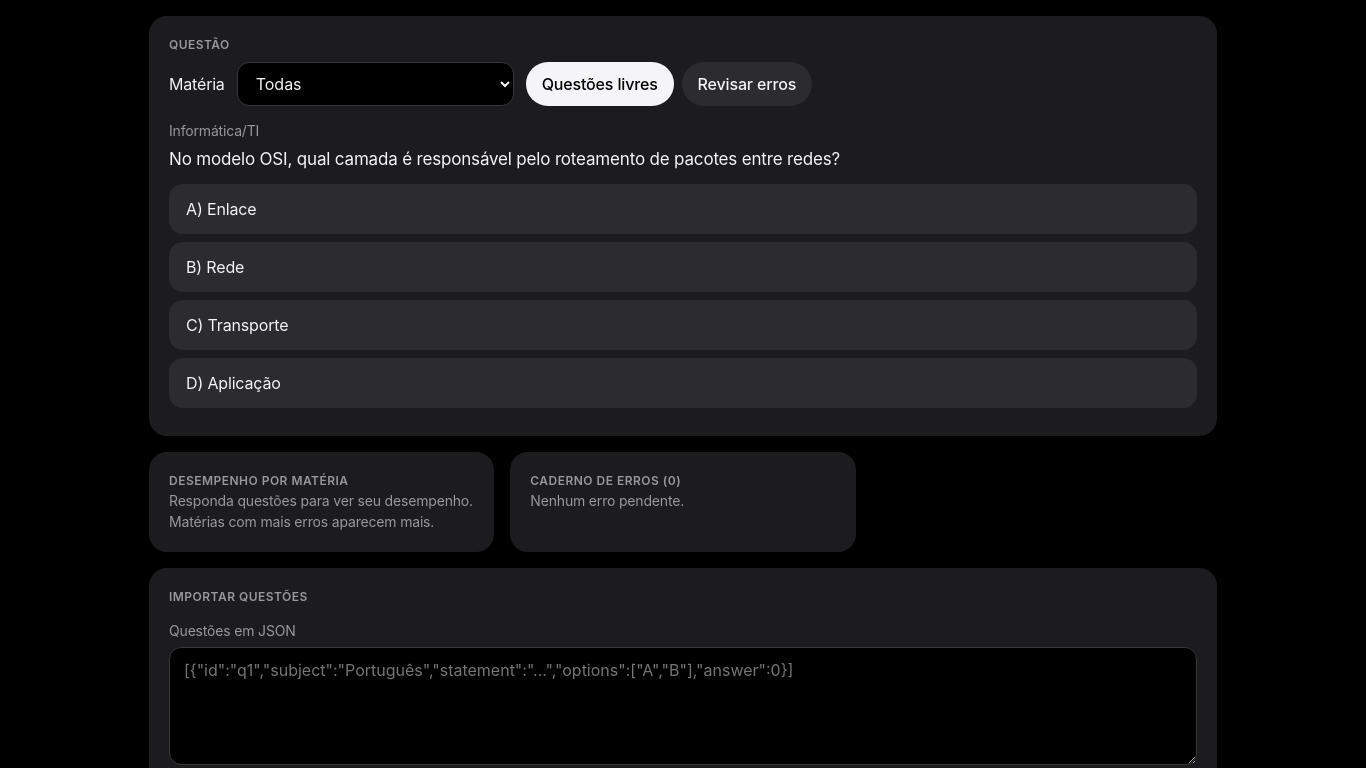
Test: responder errado mostra a resposta certa e coloca no caderno de erros
Click the button "A) Enlace".
click(232, 209)  # box [169,184,1197,234]
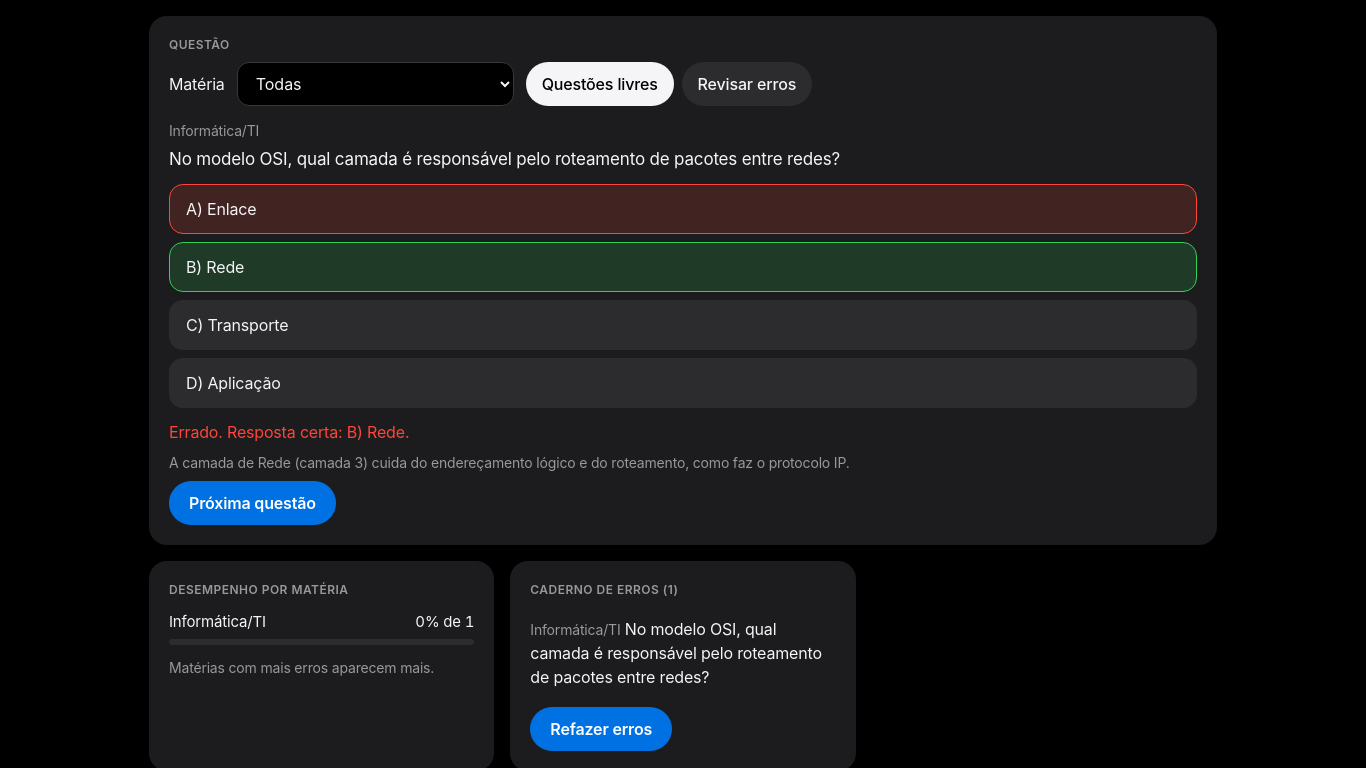
expect the text "Errado. Resposta certa: B) Rede." is shown: met, box [169,420,409,444]
expect the heading "Caderno de erros (1)" is shown: met, box [530,582,678,597]
